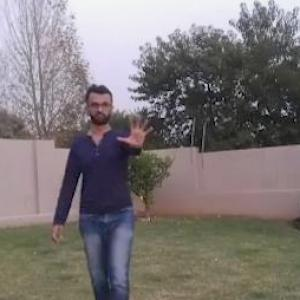follow_hand: (115, 108, 157, 152)
